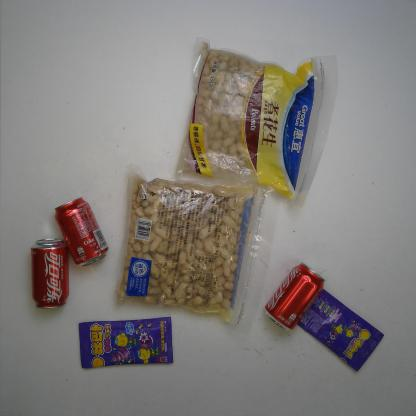Candy: (294, 287, 386, 374), (77, 314, 175, 371)
Dried Food: (112, 161, 283, 343), (171, 36, 340, 210)
Drink: (261, 259, 327, 334), (52, 195, 110, 269), (27, 236, 72, 312)
